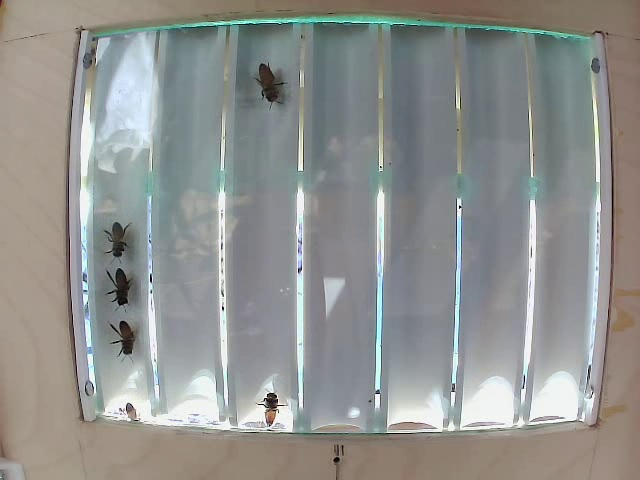bee: (108, 314, 146, 372), (102, 268, 146, 318), (93, 224, 135, 260), (258, 53, 284, 101)
